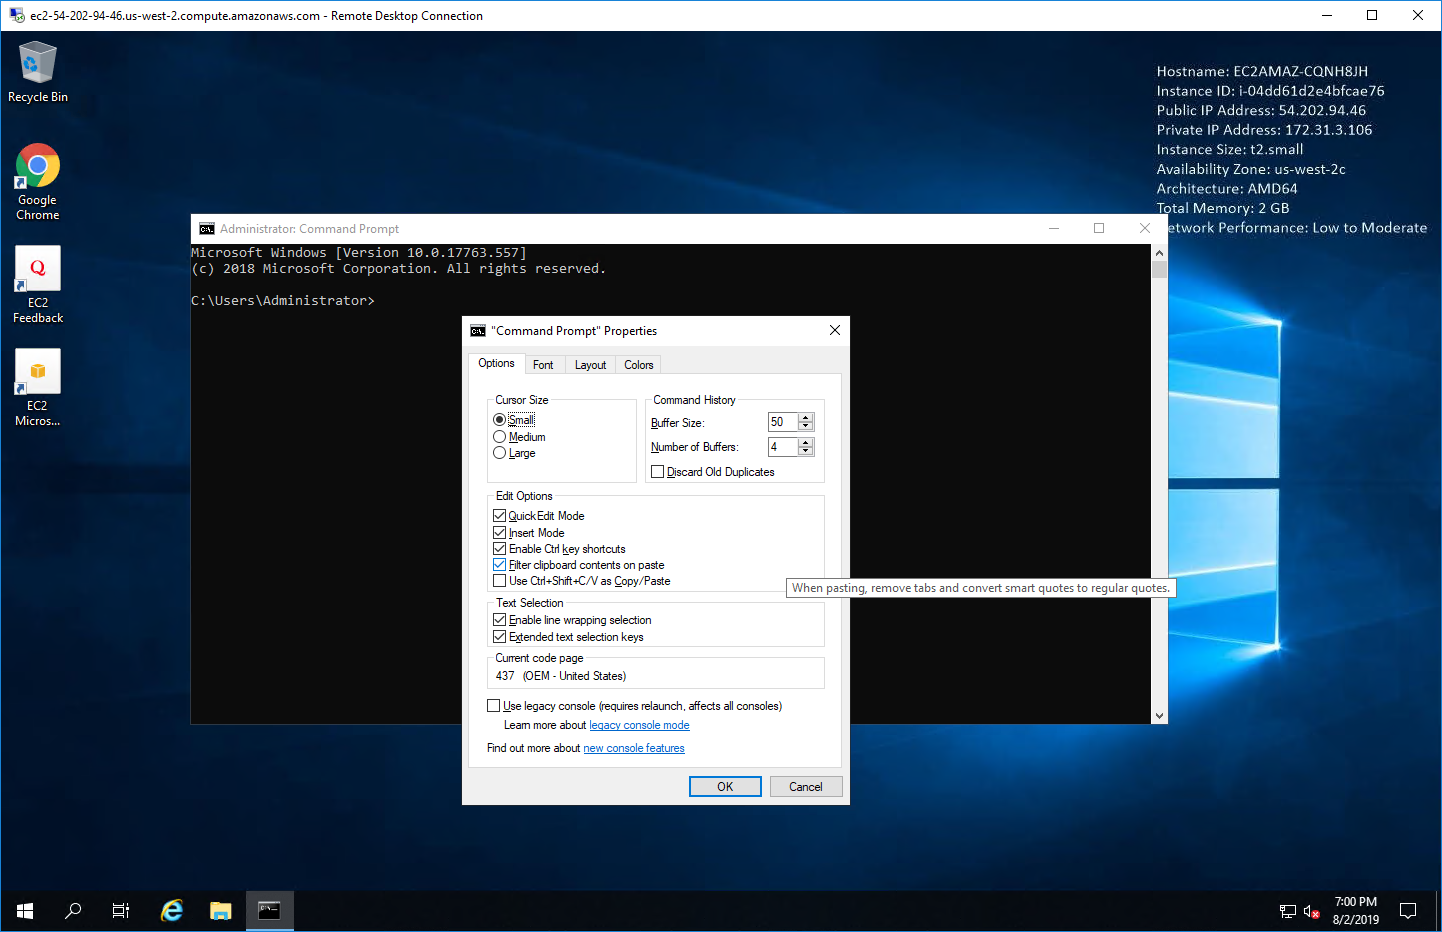ACTIVE_WINDOW: (463, 317, 853, 806)
BUTTON: (689, 776, 762, 798), (770, 776, 843, 798)
CHECKBOX_CHECKED: (492, 612, 507, 627), (492, 524, 507, 539), (492, 540, 507, 555), (492, 557, 507, 572), (492, 629, 507, 644), (492, 509, 508, 521)
CHECKBOX_UNCHECKED: (486, 698, 501, 713), (492, 573, 507, 588), (650, 464, 665, 479)
IMAGEBUTTON: (246, 888, 296, 932), (146, 889, 195, 932), (195, 888, 243, 932), (49, 891, 99, 932), (1, 891, 48, 931), (100, 891, 143, 932), (1394, 1, 1440, 32), (1306, 1, 1352, 32), (1124, 212, 1168, 242), (1390, 891, 1422, 932), (1351, 1, 1393, 32), (1273, 888, 1301, 932), (1079, 214, 1120, 244), (1302, 890, 1325, 932), (1041, 213, 1071, 244), (821, 316, 849, 346)
RADIOBUTTON_CLICKED: (492, 411, 507, 426)
RADIOBUTTON_UNCLICKED: (492, 427, 507, 443), (492, 444, 507, 459)
SCROLLBAR_VERTICAL: (1150, 241, 1168, 725)
SCROLLBAR_VERTICAL_BAR: (1152, 258, 1167, 279)
SCROLLBAR_VERTICAL_HANDLE_DOWN: (1151, 708, 1168, 725)
SCROLLBAR_VERTICAL_HANDLE_UP: (1151, 243, 1167, 261)
SPINBOX: (769, 412, 815, 430), (768, 438, 813, 456)
SPINBOX_HANDLE: (799, 436, 816, 455), (798, 412, 812, 430)
TAB: (472, 353, 524, 374), (566, 353, 619, 374), (617, 354, 662, 375), (526, 353, 562, 376)
